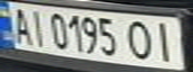0: (45, 9, 69, 51)
1: (63, 11, 81, 52)
5: (96, 15, 124, 57)
9: (78, 12, 100, 55)
A: (6, 3, 33, 45)
I: (148, 18, 181, 63), (24, 7, 48, 47)
O: (124, 17, 157, 62)
